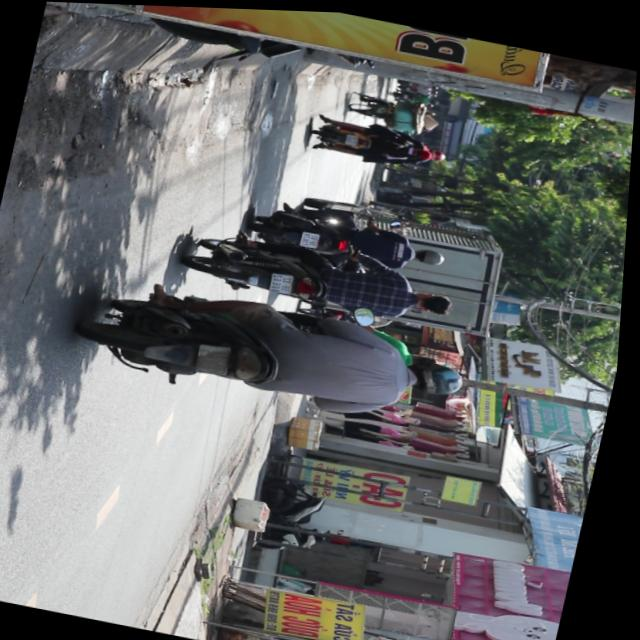helmet: (410, 354, 474, 398), (417, 244, 450, 264)
licenseplate: (72, 265, 486, 437), (177, 221, 468, 332), (248, 193, 455, 274)
motorcyclist: (416, 286, 461, 315)
nohelmet: (201, 342, 237, 373), (273, 269, 299, 293), (304, 229, 324, 246)
